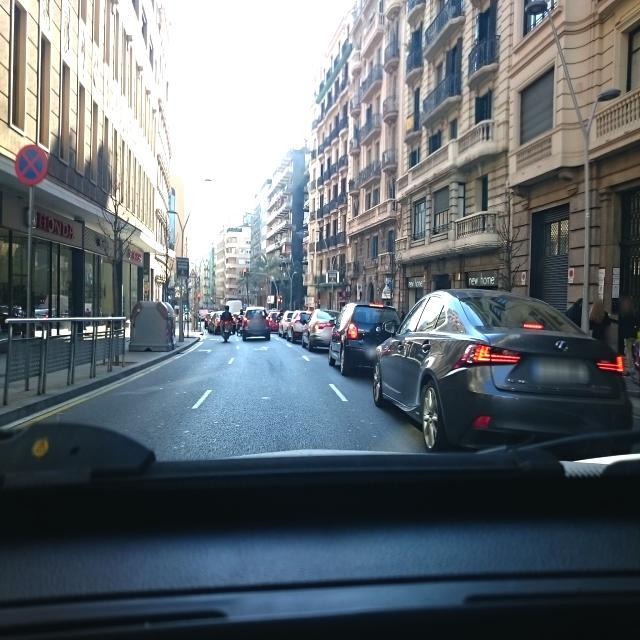bike: (222, 319, 232, 341)
car: (372, 286, 636, 454), (328, 300, 400, 376), (302, 308, 339, 352), (242, 306, 270, 342), (287, 310, 311, 344), (279, 310, 294, 338), (277, 310, 290, 336), (210, 311, 222, 334), (269, 311, 281, 334)
